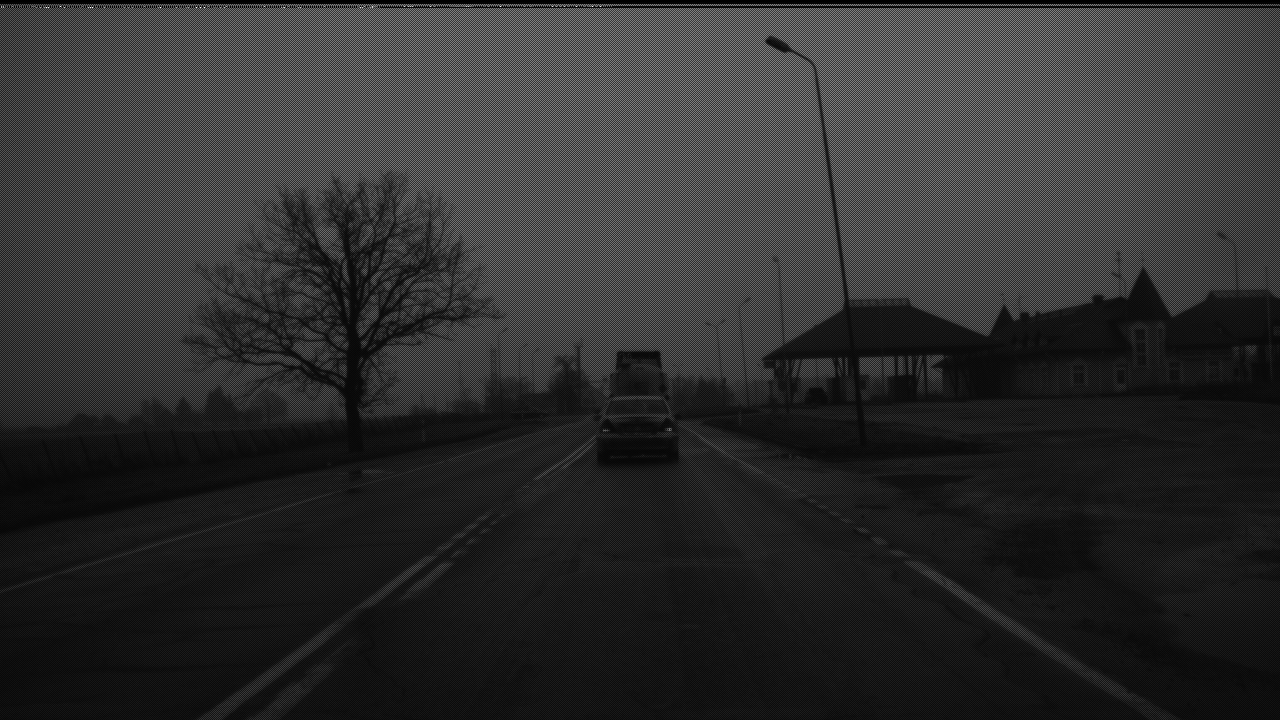pole: (809, 64, 864, 436)
